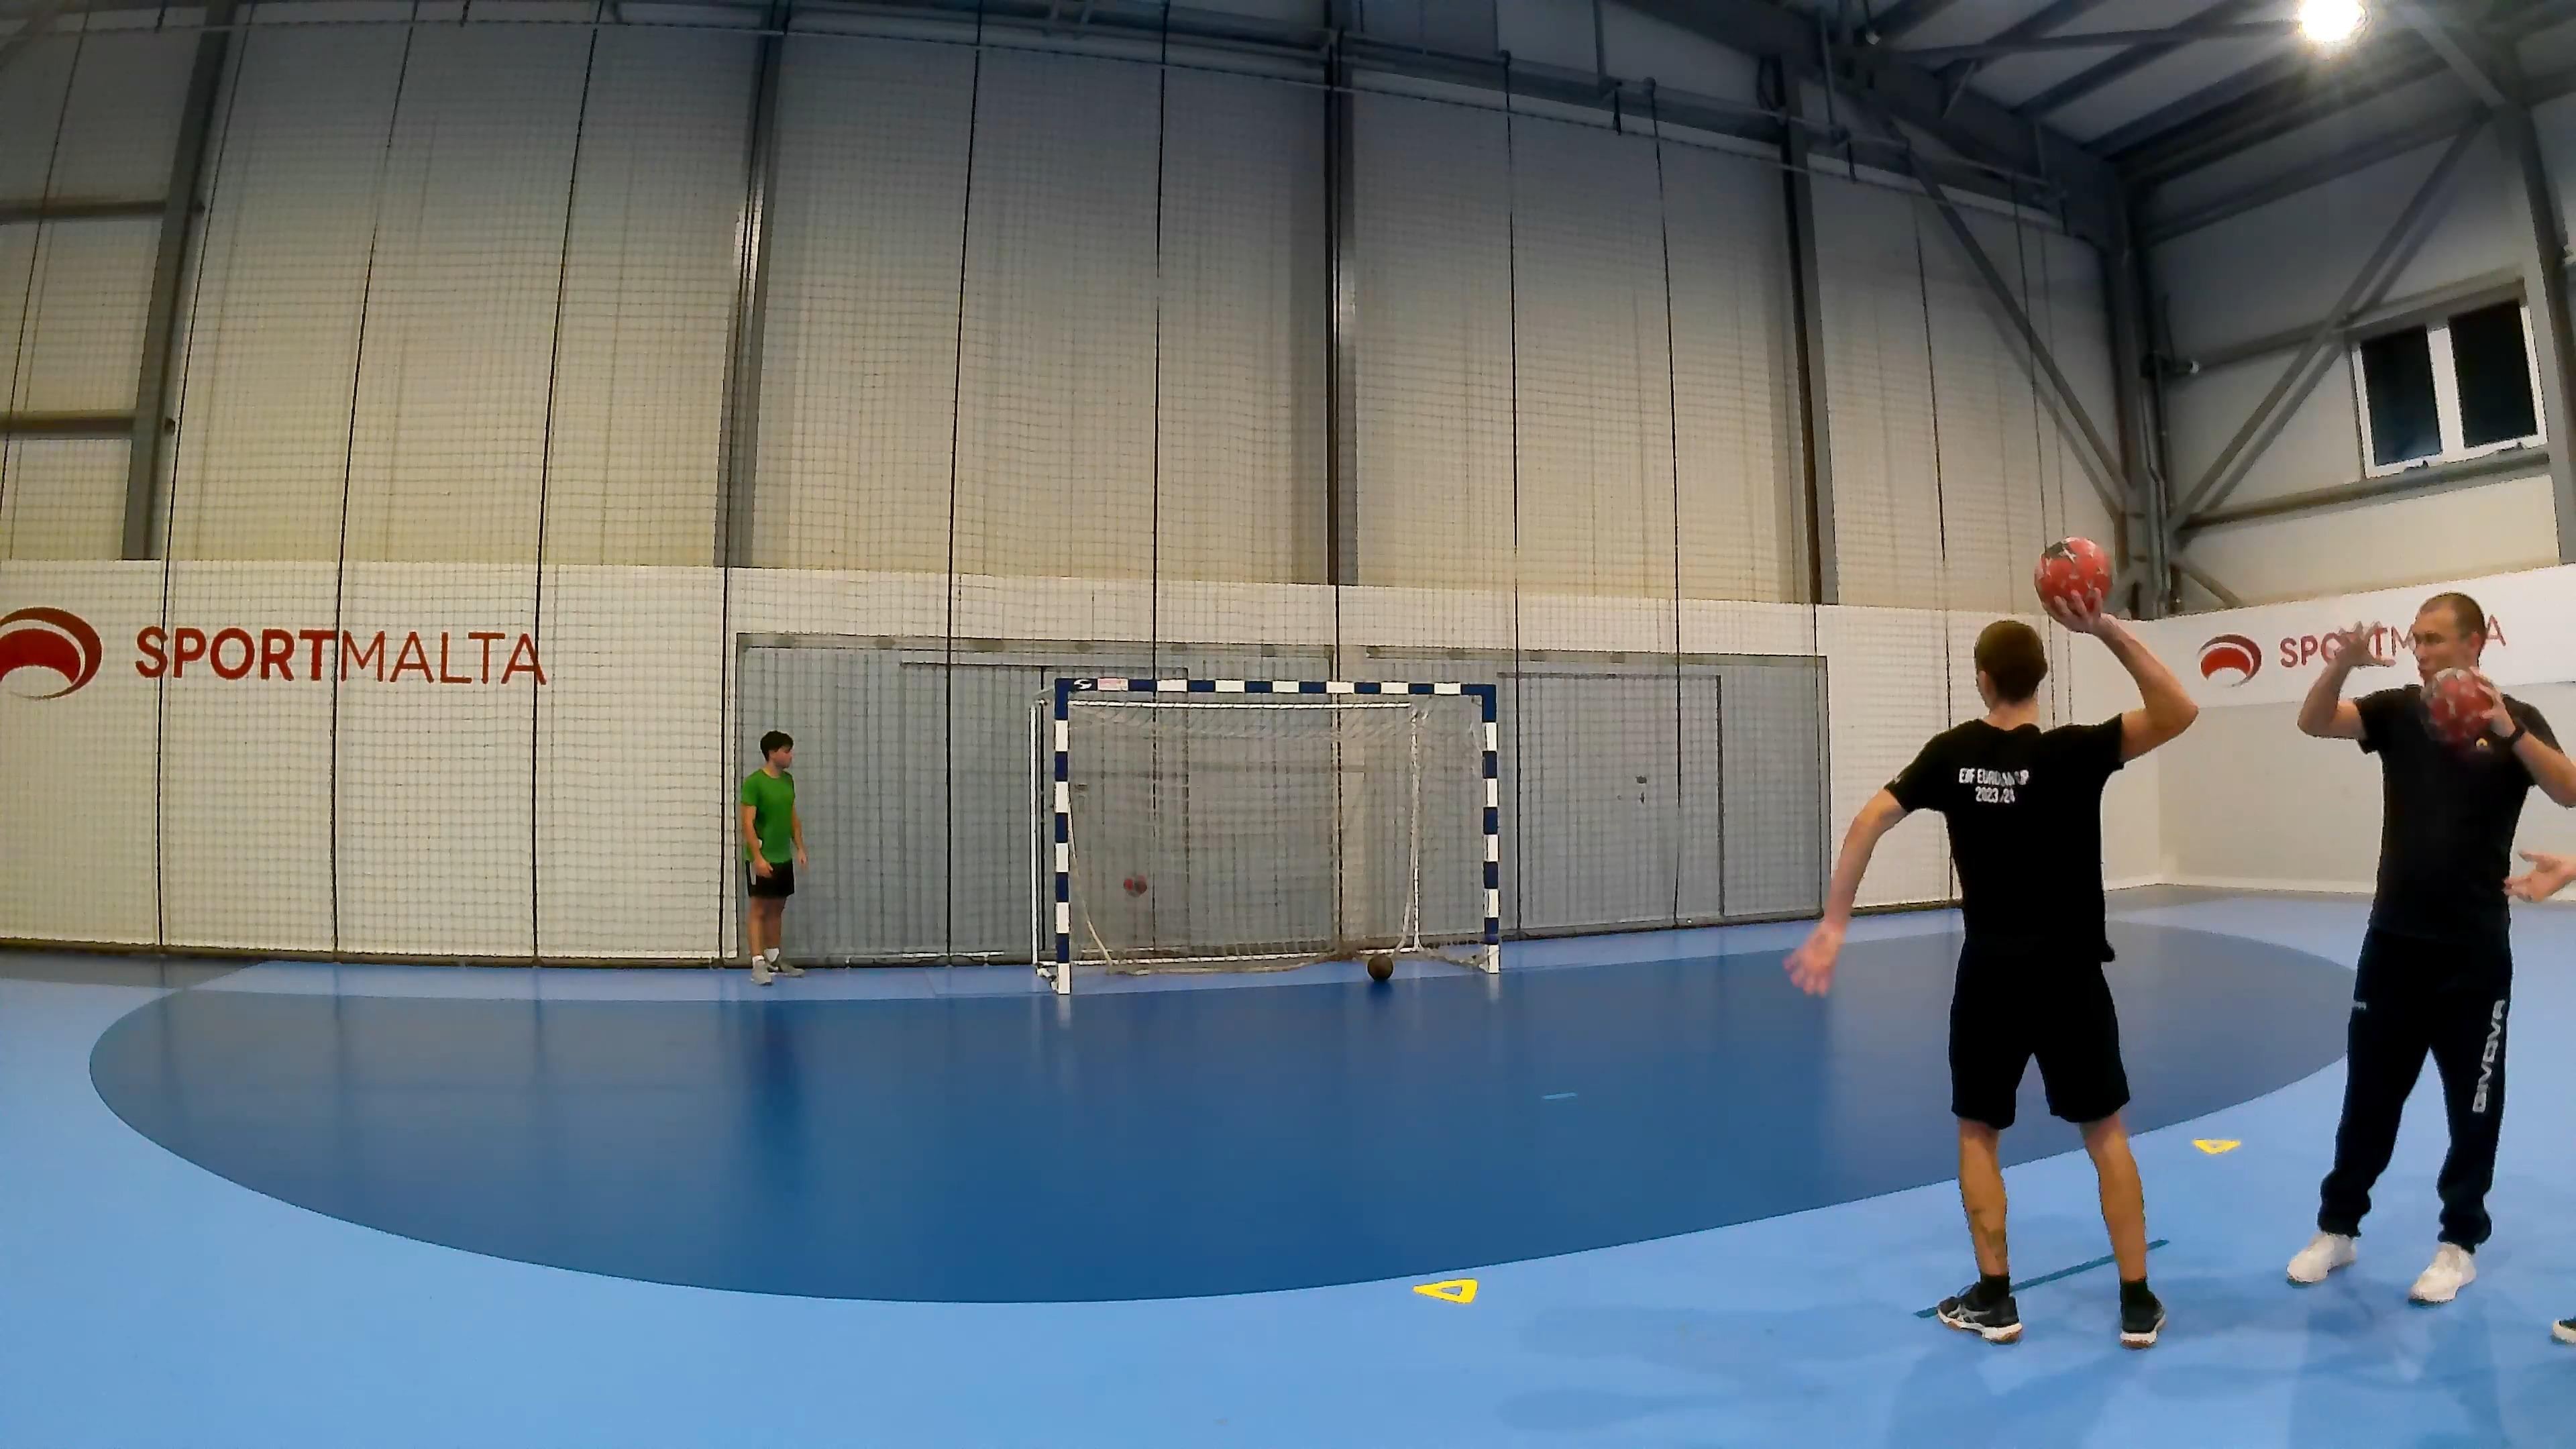handball: (2033, 534, 2112, 616), (2424, 667, 2496, 745)
